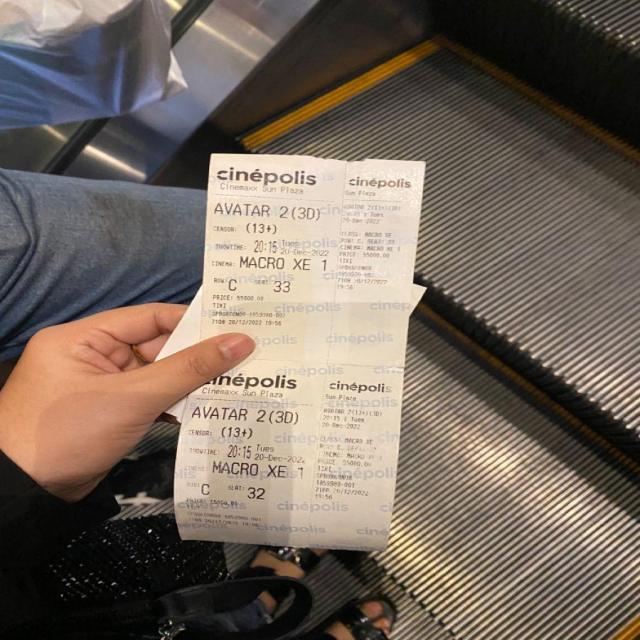date: (339, 216, 389, 226)
store: (216, 166, 330, 192), (341, 175, 416, 201)
total: (210, 294, 272, 304)
